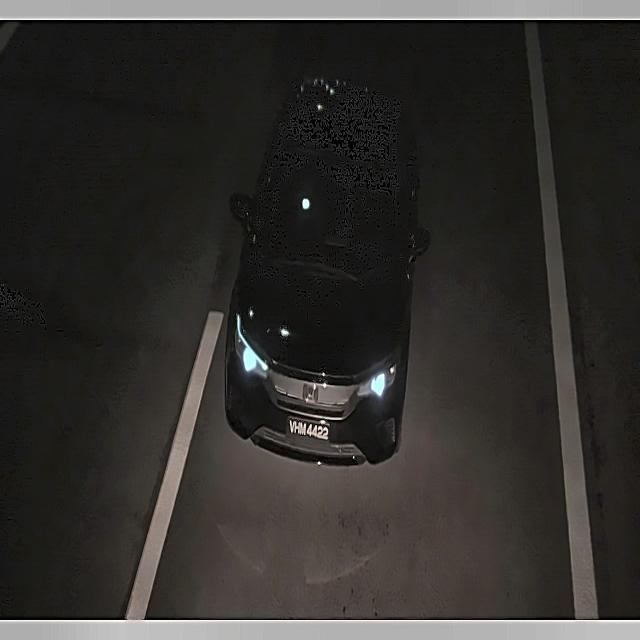car: (283, 408, 336, 452)
